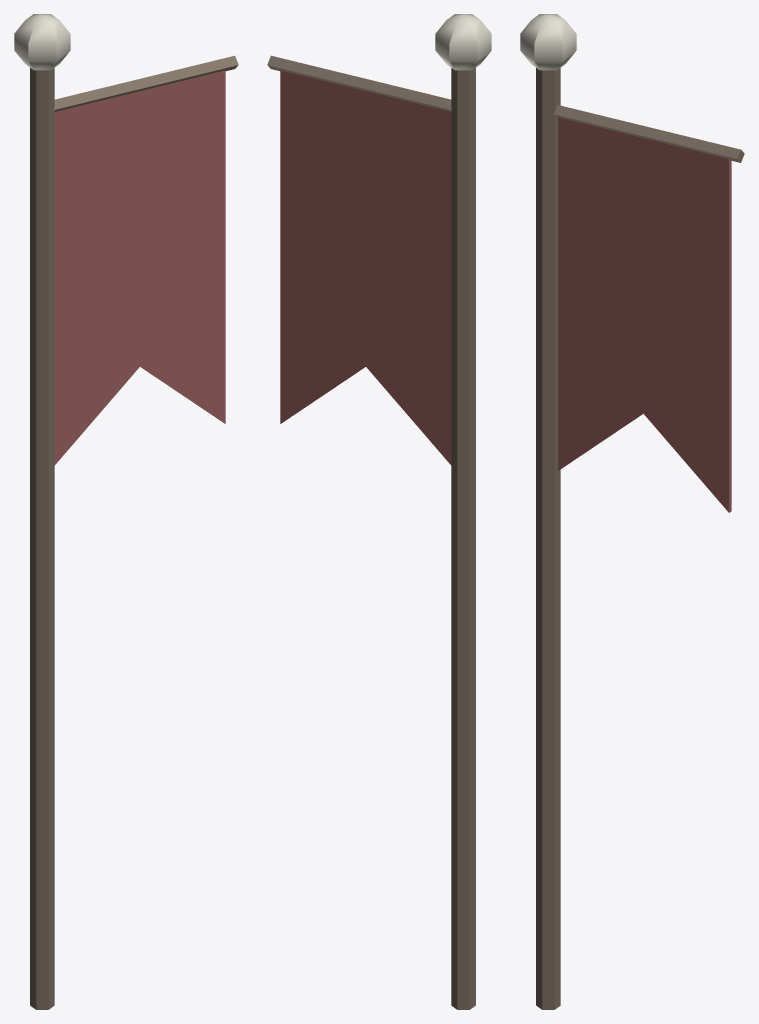
File: banner_red.gltf
The picture shows the model from 3 angles, left to right: view 1: azimuth 30°, elevation 25°; view 2: azimuth 150°, elevation 25°; view 3: azimuth 330°, elevation 25°; orthographic projection.
Visible parts, largest first — view 1: Body; view 2: Body; view 3: Body.
Part boxes in pixels (x1,y1,x2,y2): Body: (14,14,238,1009); Body: (267,14,491,1009); Body: (520,14,744,1009).
Bounding box in the file's own units: 0.9988 × 4.42 × 0.2283.
